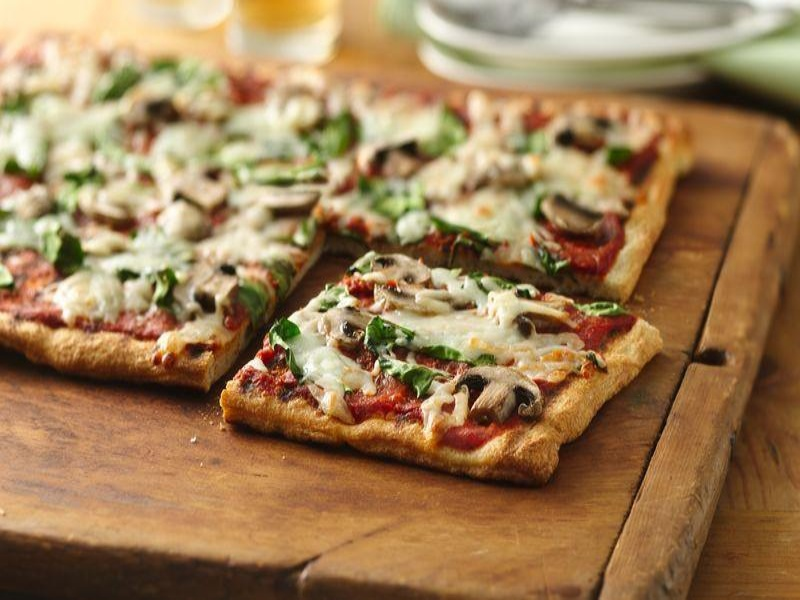champignon: (447, 364, 555, 425), (365, 252, 436, 296)
